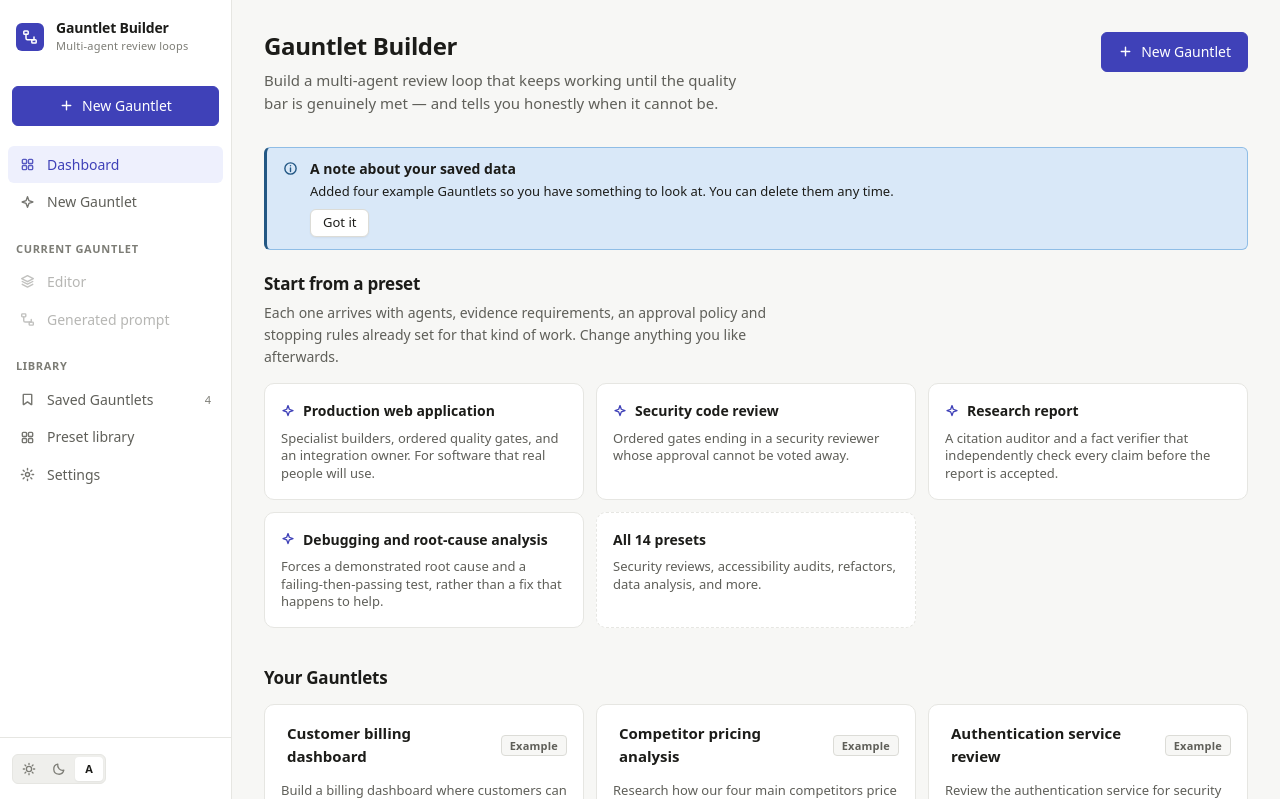
Test: creating a Gauntlet › jumps to the offending step when a warning action is used
Click the 2nd button "New Gauntlet" at (116, 106), box [12,86,219,126]
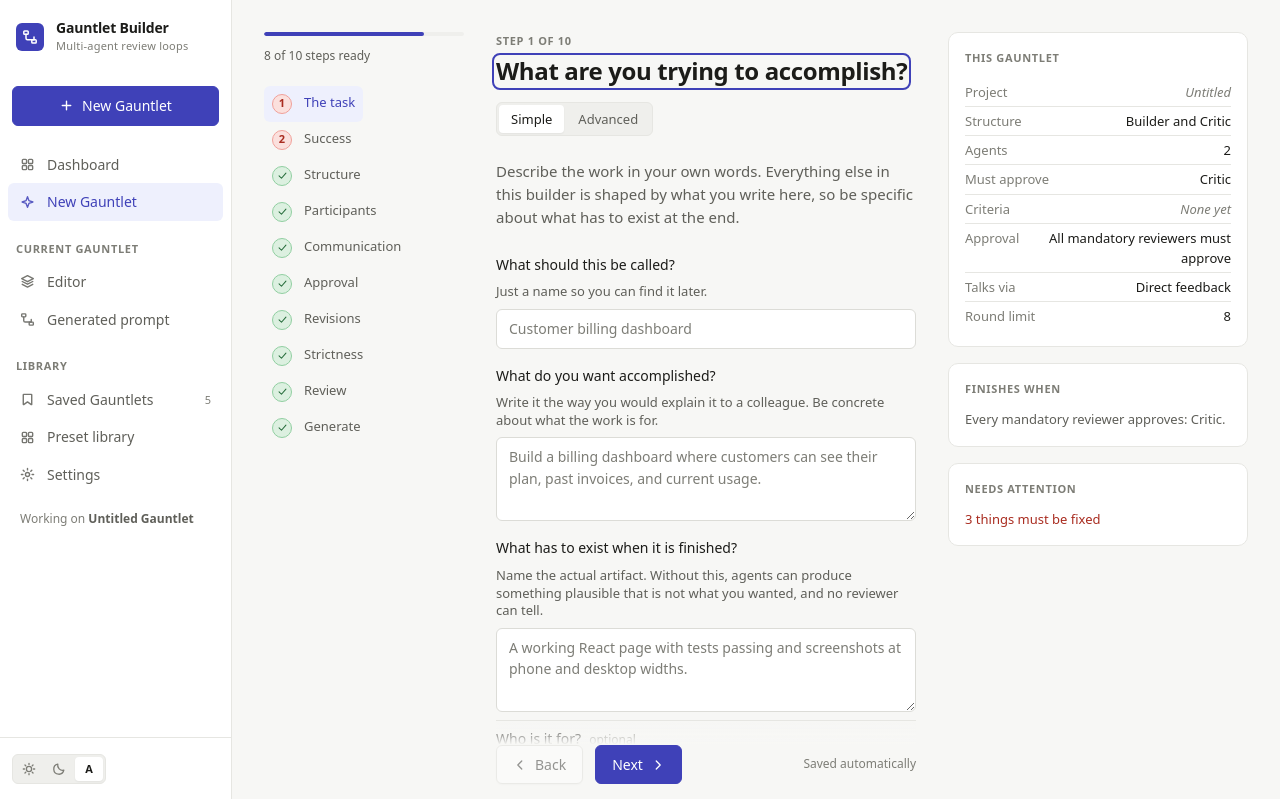
Click the button with aria-label "Step 9. Review" at (309, 392), box [264,374,354,410]
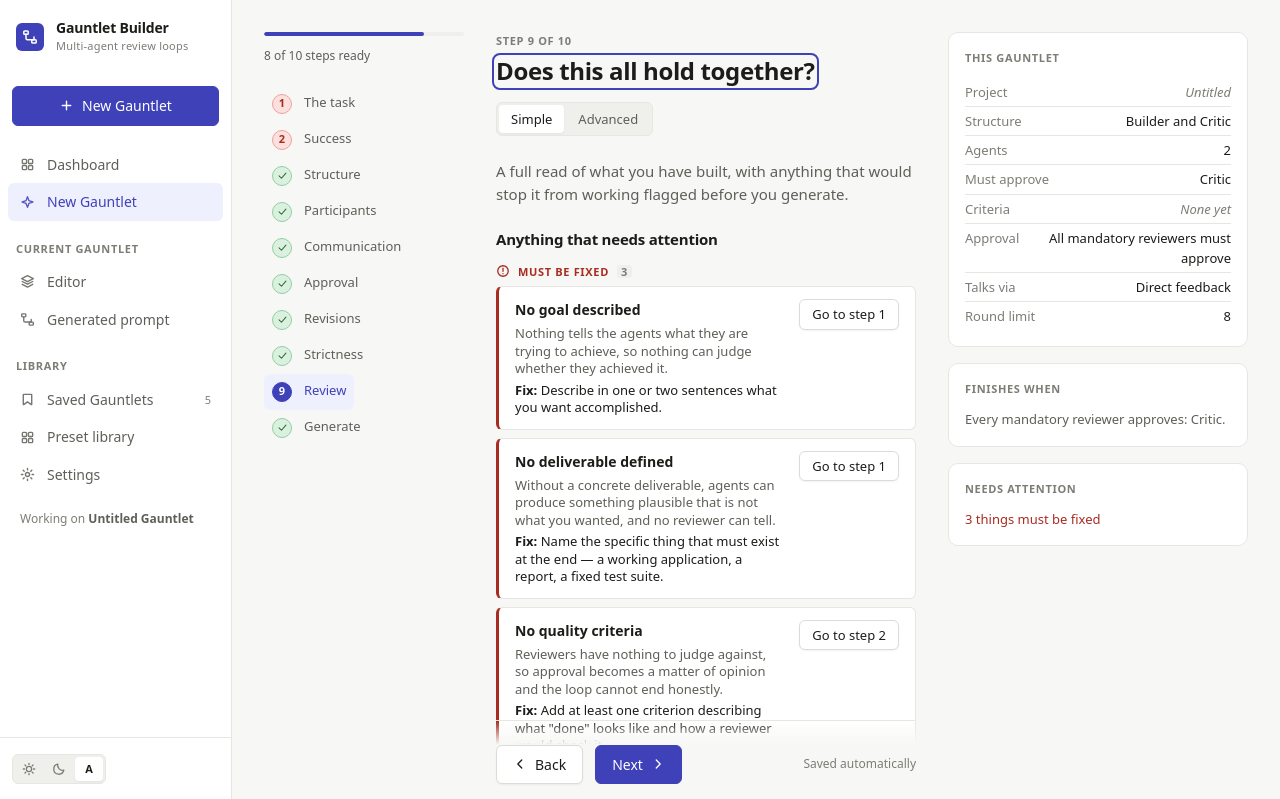
Click the button "Go to step 1" in the row of "No goal described" at (849, 315), box [799,300,899,330]
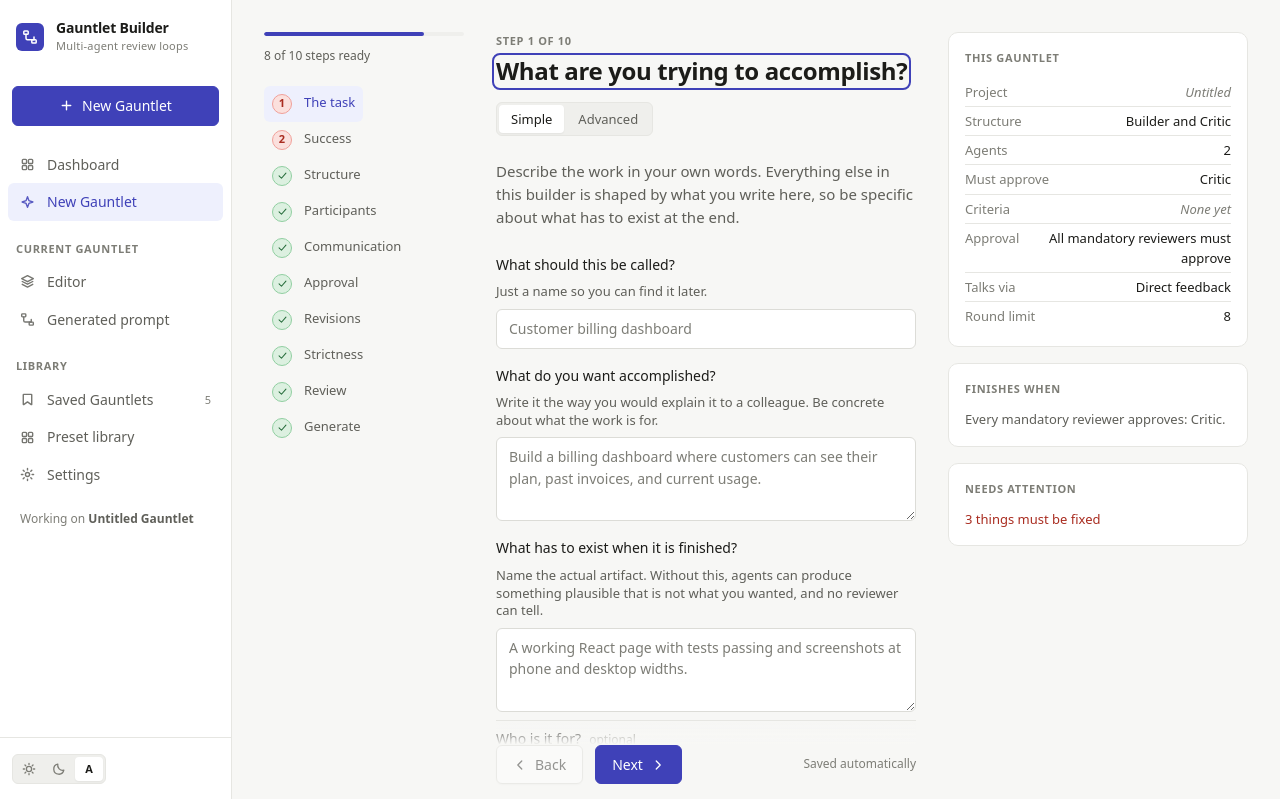
Check: the heading "What are you trying to accomplish?" is shown, box [496,57,907,86]
